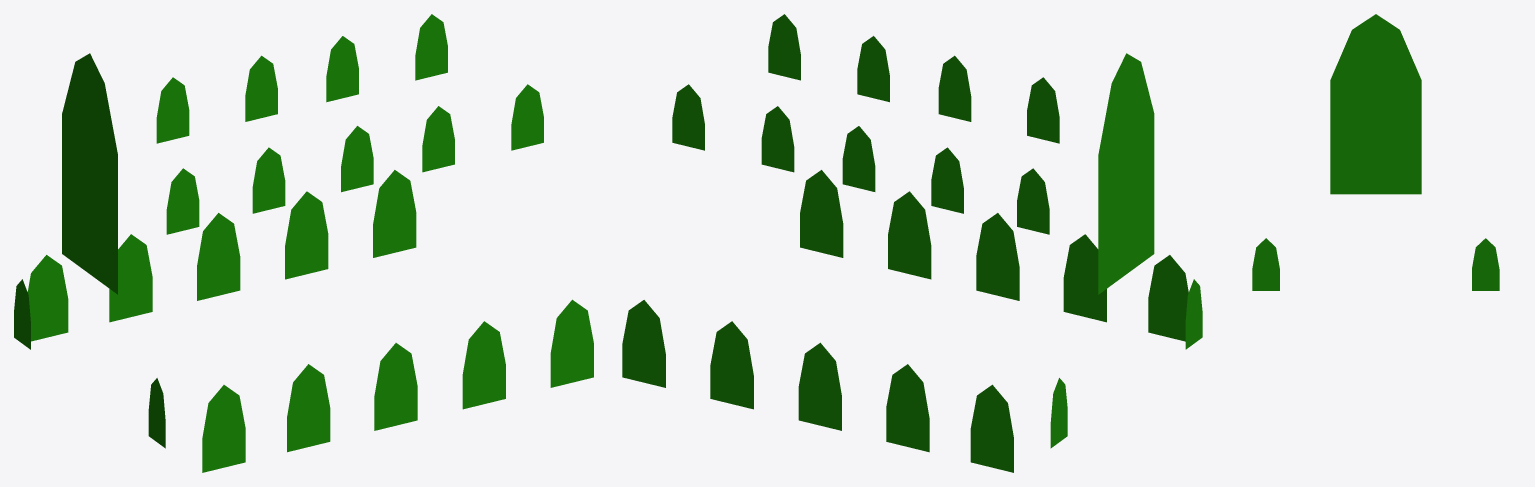
Rendered from ChurchGreenScreen.fbx.
The picture shows the model from 3 angles, left to right: view 1: azimuth 30°, elevation 25°; view 2: azimuth 150°, elevation 25°; view 3: azimuth 270°, elevation 25°; orthographic projection. The views are drawn at different scales.
Parts seen in each view (by area): view 1: ChurchGreenScreen; view 2: ChurchGreenScreen; view 3: ChurchGreenScreen.
Part boxes in pixels (x1,y1,x2,y2): ChurchGreenScreen: [14, 14, 593, 472]; ChurchGreenScreen: [622, 14, 1202, 472]; ChurchGreenScreen: [1252, 14, 1499, 290].
Bounding box in the file's own units: 18.6 × 15.43 × 13.76.
